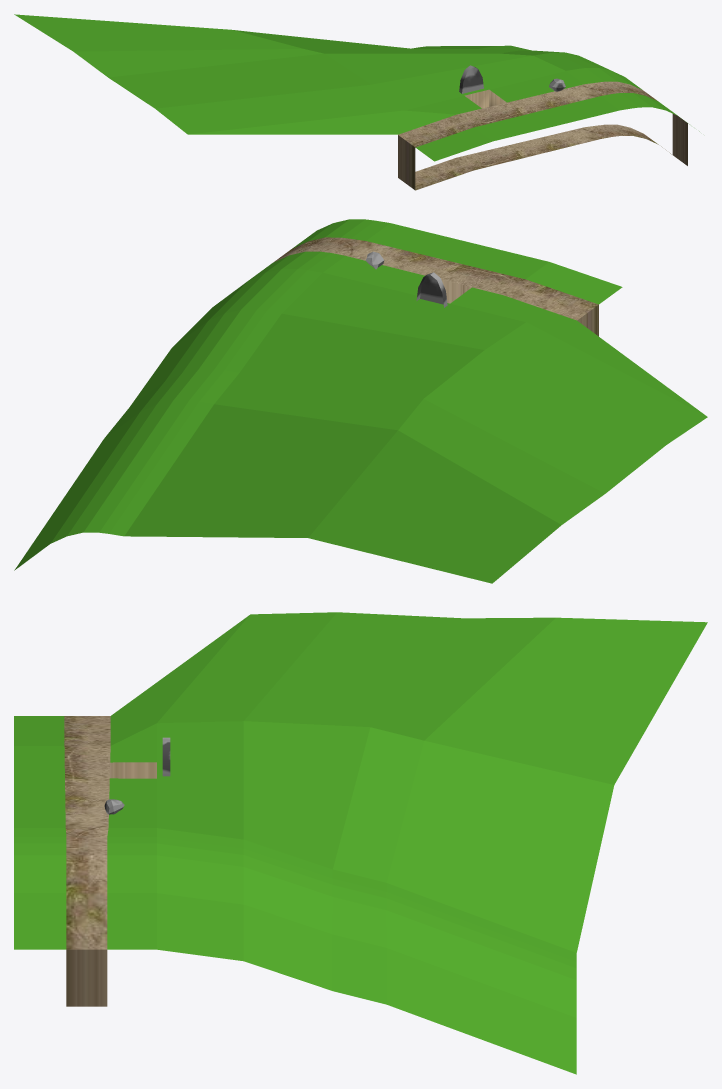
Rendered from graveyard.fbx.
3 views of the same model, one above another, from view 1: azimuth 30°, elevation 25°; view 2: azimuth 150°, elevation 25°; view 3: azimuth 270°, elevation 25° (orthographic). The views are drawn at different scales.
Parts seen in each view (by area): view 1: Mesh, Mesh (2); view 2: Mesh, Mesh (2); view 3: Mesh.
Boxes of the visible parts, x1=… form: Mesh: x1=14, y1=14, x2=699, y2=190; Mesh (2): x1=459, y1=65, x2=483, y2=93; Mesh: x1=14, y1=219, x2=707, y2=583; Mesh (2): x1=416, y1=272, x2=447, y2=307; Mesh: x1=14, y1=612, x2=707, y2=1074.
Bounding box in the file's own units: 18590 × 6900 × 19570.
Materials: 3 (3 with a texture image).
